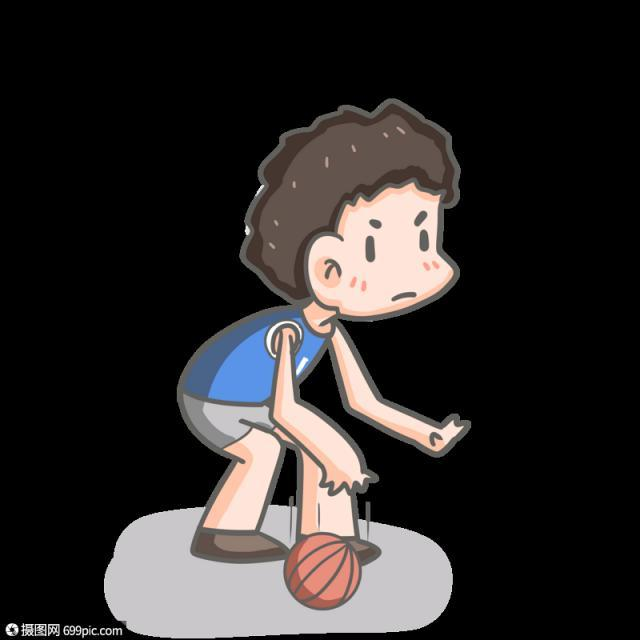rim: (286, 532, 360, 610)
